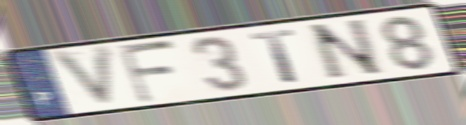3: (190, 33, 250, 94)
8: (376, 13, 440, 73)
F: (115, 38, 180, 105)
N: (306, 16, 389, 83)
T: (247, 27, 303, 85)
V: (46, 42, 120, 112)
